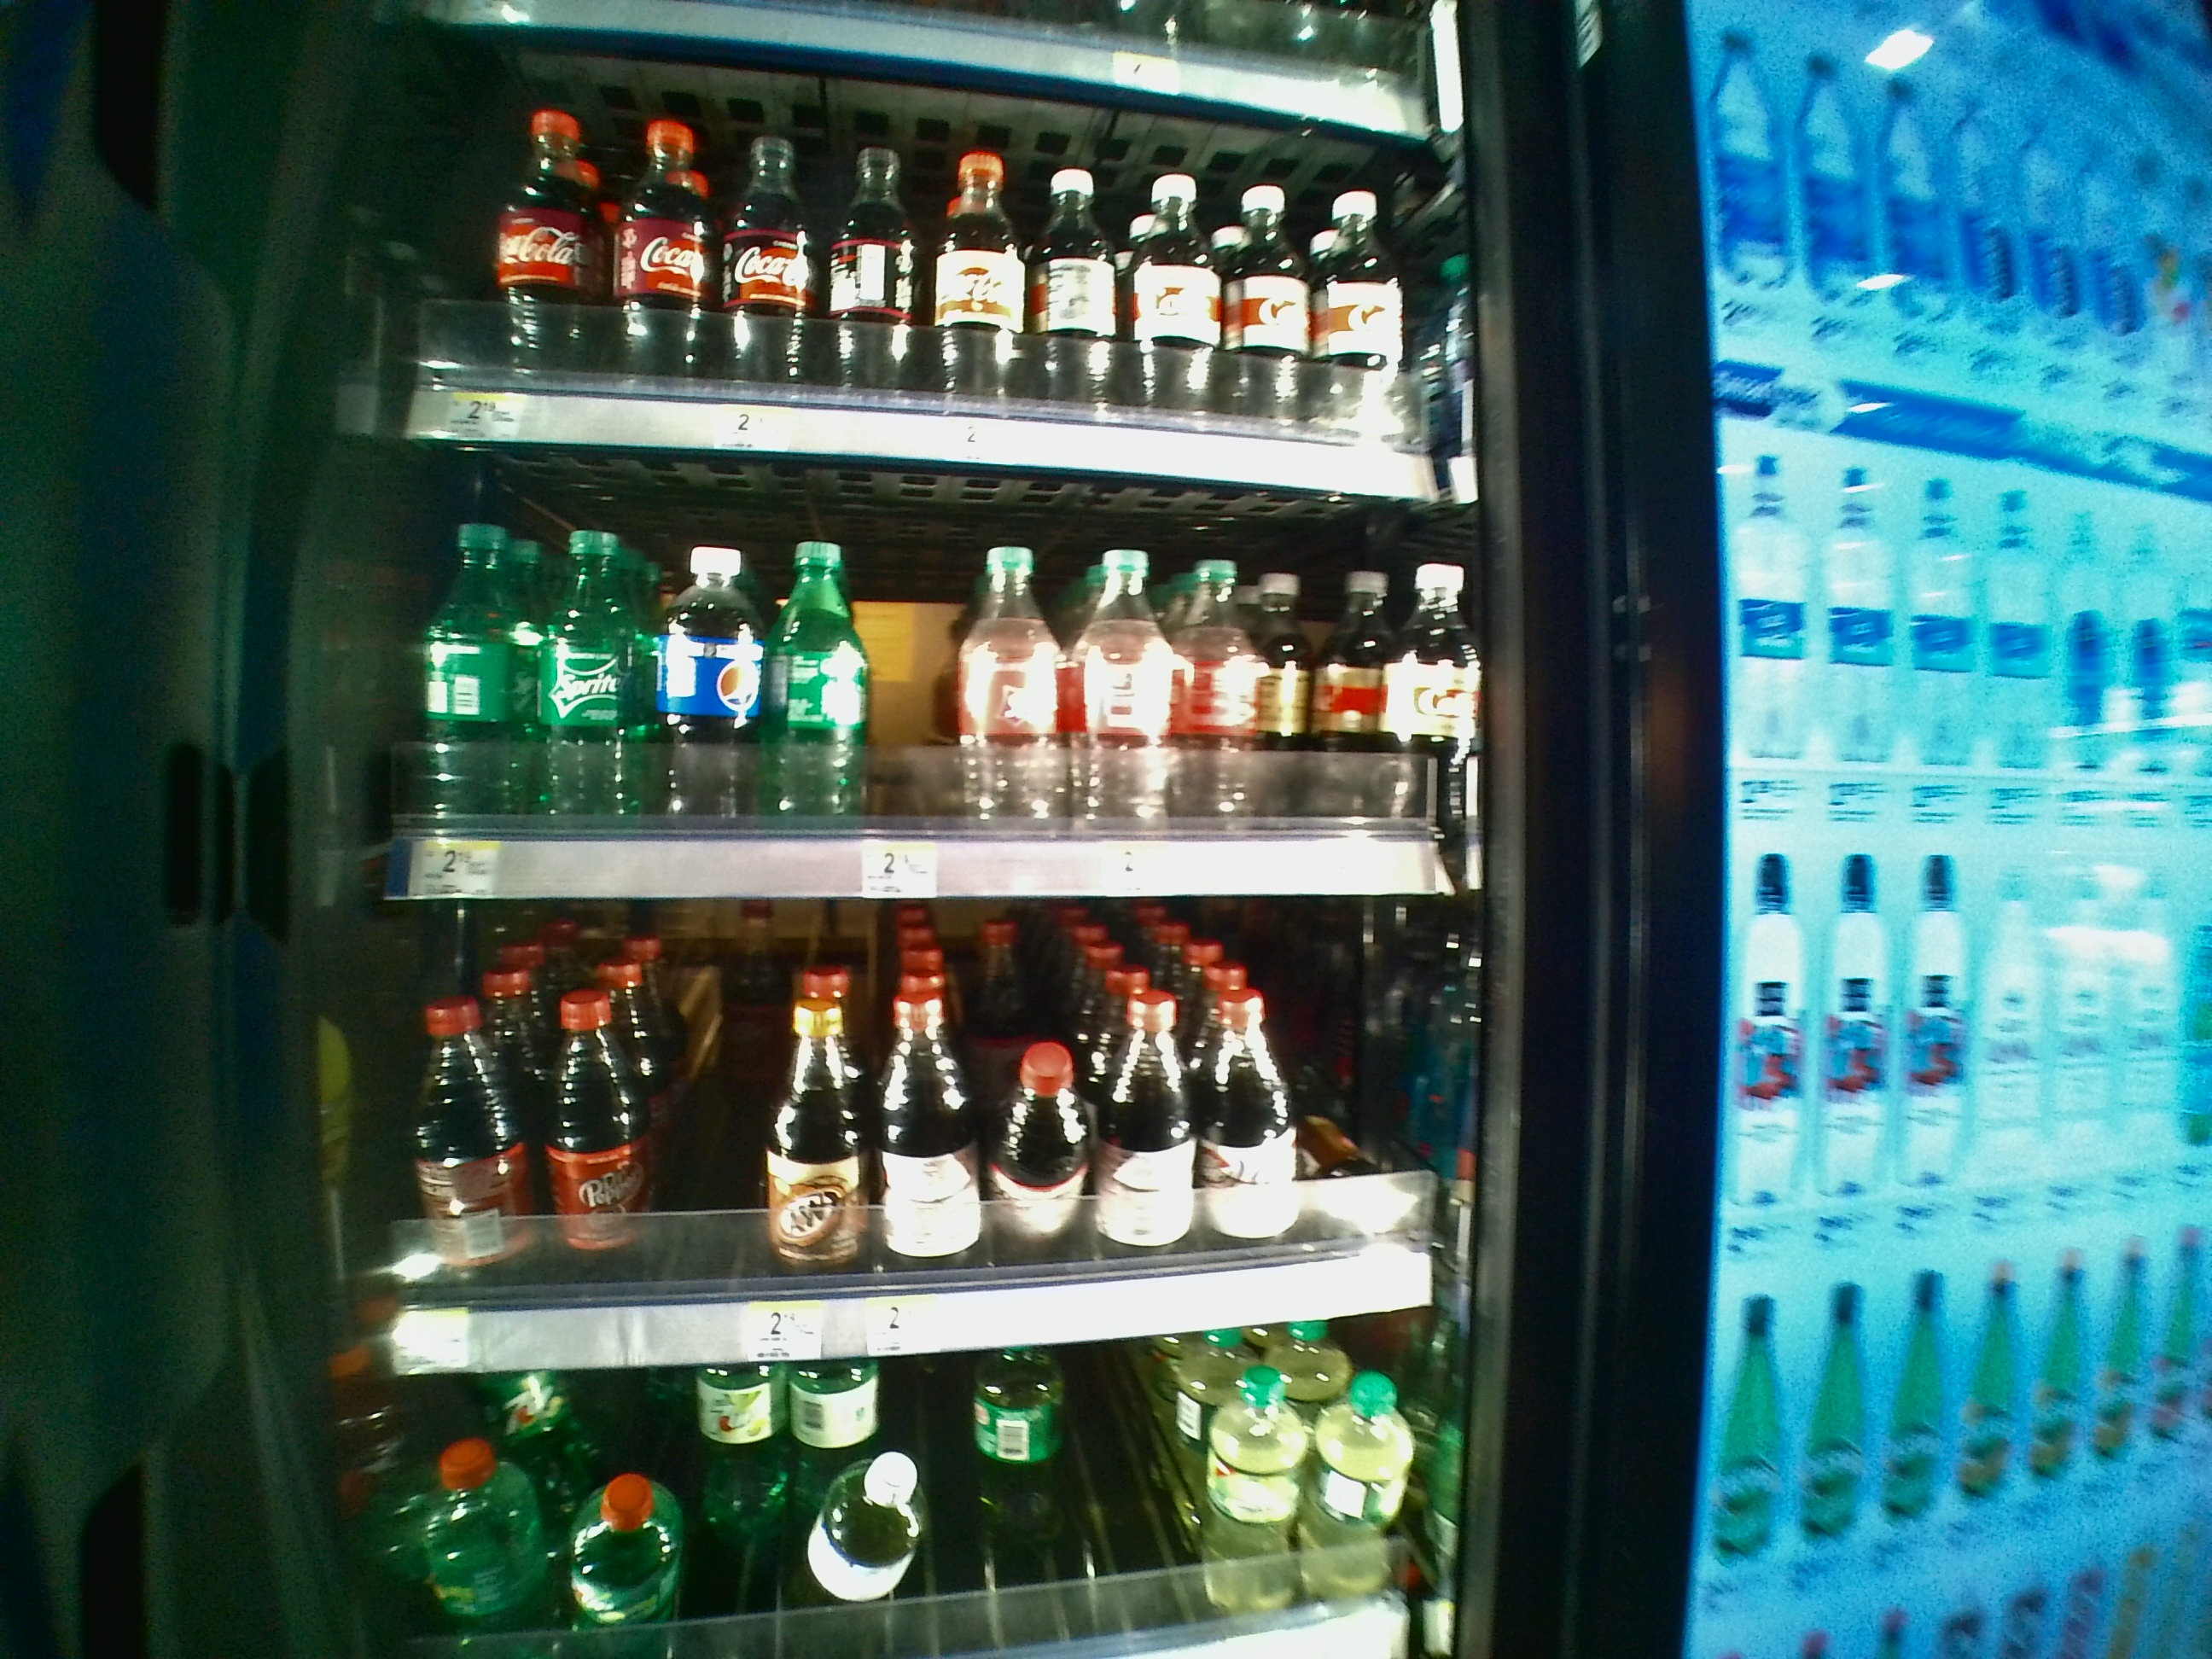shelf: (371, 908, 1474, 1382), (371, 446, 1460, 904)
